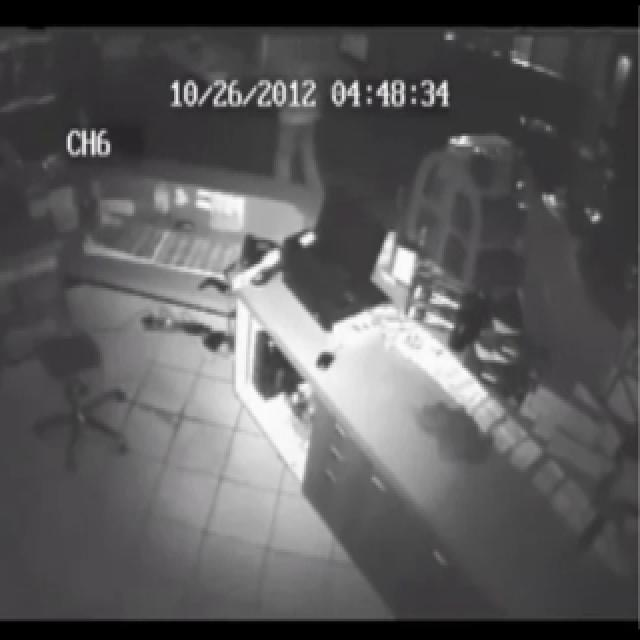arson: (134, 58, 321, 470)
